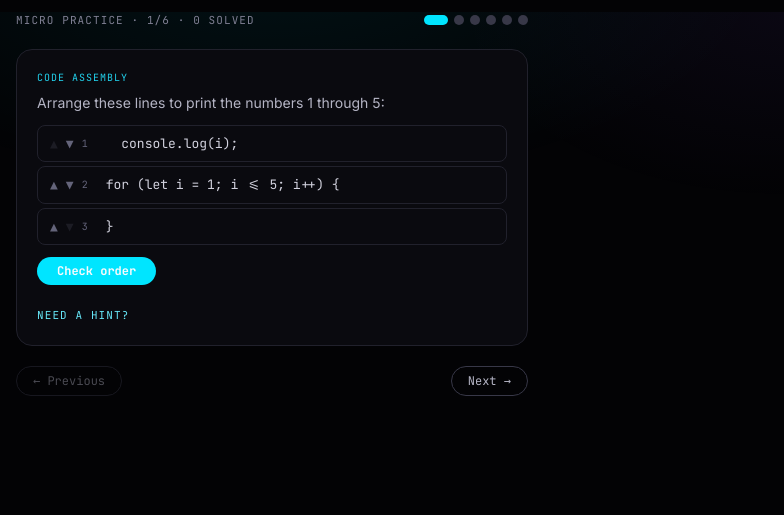
Test case: quick practice › hands out the reasoning on request instead of as an error message
The image size is (784, 515).
Expected: the text "JavaScript reads top to bottom" is not shown
What coordinates should you click on to do the following:
click the button "need a hint?"
I would click on:
 (83, 315)
Its box is [37,307,129,324].
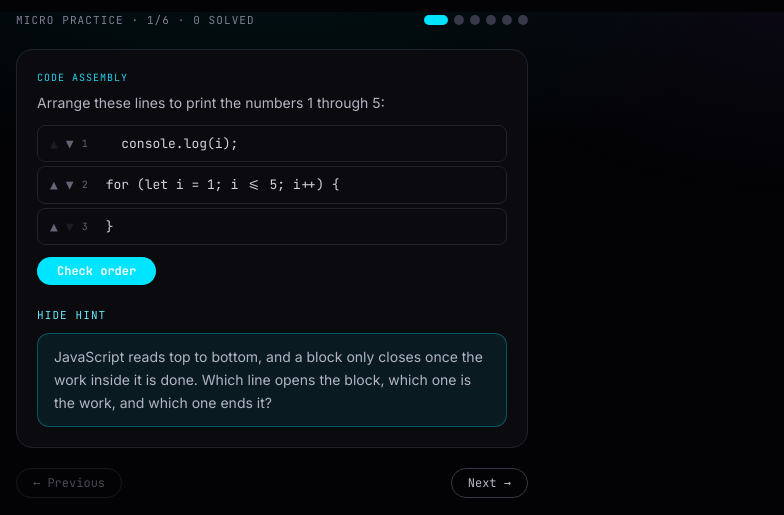
Expected: the text "JavaScript reads top to bottom" is shown, [54,348,483,410]
